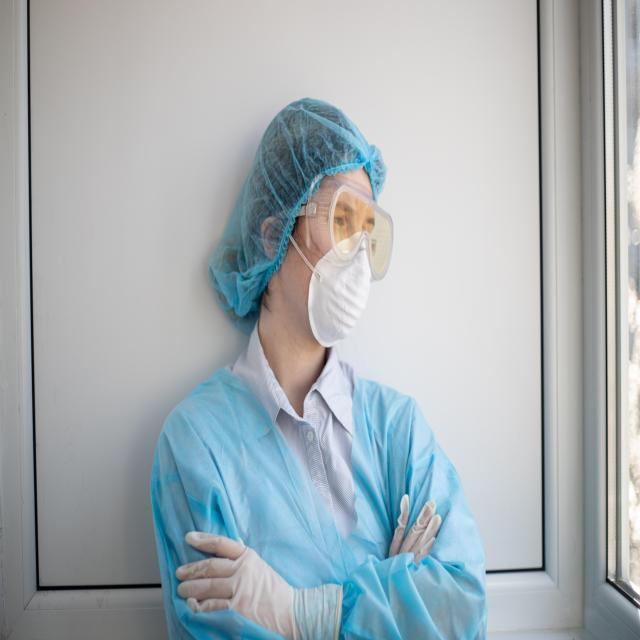Gloves: (175, 525, 348, 640), (386, 491, 442, 566)
Goggles: (305, 166, 400, 288)
Mask: (309, 233, 370, 347)
